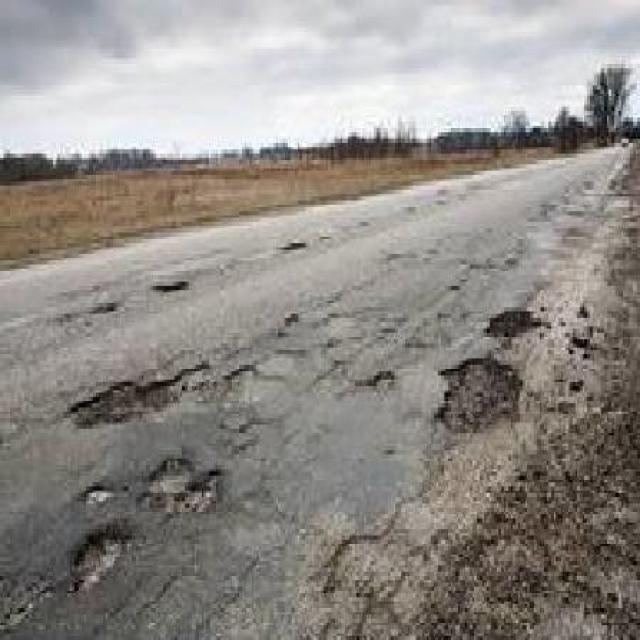buraco: (58, 358, 252, 436), (66, 354, 208, 427), (435, 353, 528, 435), (436, 354, 528, 433), (138, 449, 226, 529), (140, 454, 222, 516), (68, 527, 130, 606), (67, 522, 133, 596), (478, 307, 553, 356), (482, 302, 546, 340), (146, 269, 192, 303), (79, 479, 119, 516), (86, 298, 122, 322), (280, 232, 310, 259), (149, 276, 191, 295), (82, 482, 118, 504), (372, 364, 396, 394), (375, 365, 396, 395), (92, 300, 122, 321), (283, 241, 308, 254)
